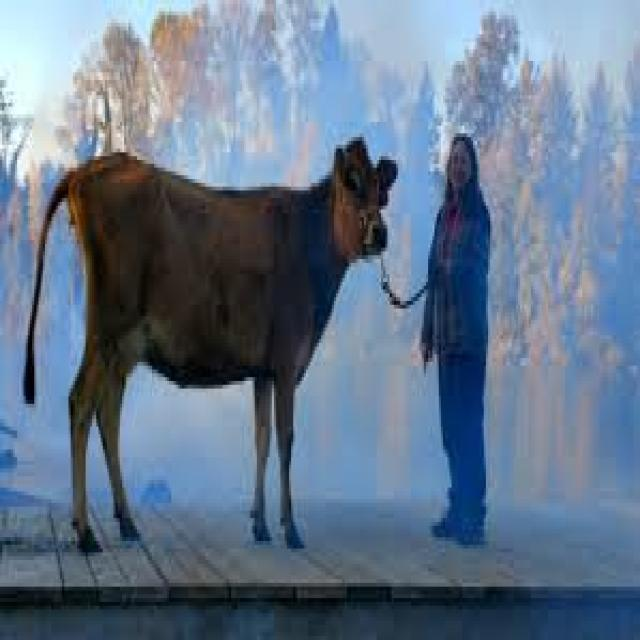cow: (87, 134, 396, 388)
